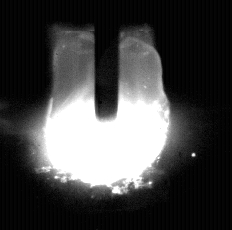arame: (95, 0, 120, 123)
poca: (44, 0, 168, 230)
